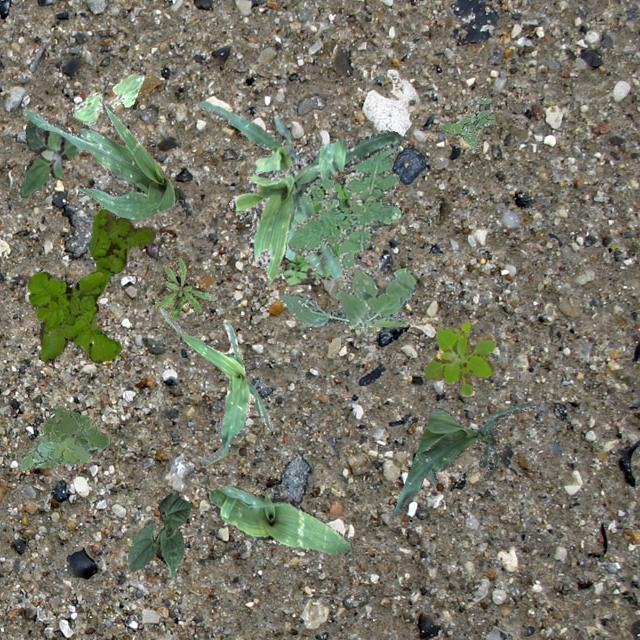crop: (228, 130, 402, 280), (198, 100, 340, 276), (20, 104, 176, 218), (158, 308, 272, 462), (392, 402, 540, 514), (206, 484, 350, 554), (128, 492, 188, 578), (70, 70, 144, 124)
weed: (288, 128, 402, 336), (27, 208, 154, 362), (278, 262, 414, 328), (282, 176, 351, 284), (20, 404, 109, 468), (422, 318, 494, 394), (19, 118, 78, 196), (154, 252, 216, 318), (438, 94, 497, 150)
